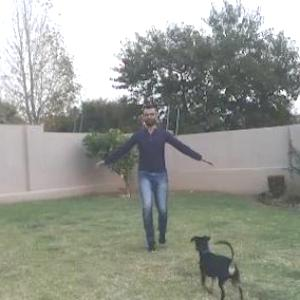land: (84, 106, 215, 264)
